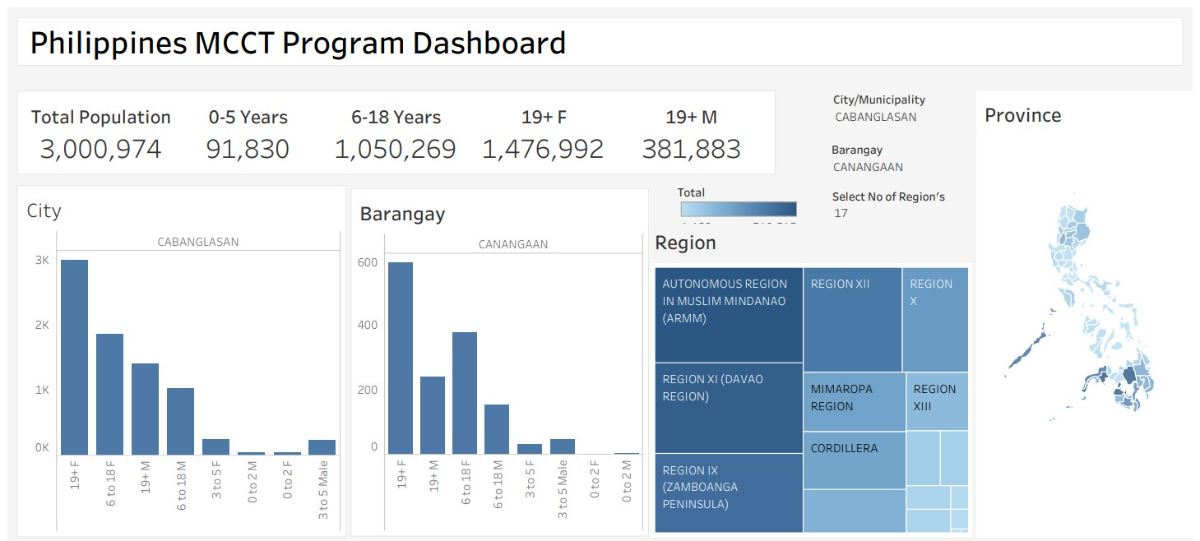

The dashboard page shown, as its layout file describes it:
{"tool":"tableau","page":{"name":"Dashboard 1","canvas":[1000,1000],"units":"permille","ordinal":0},"visuals":[{"type":"text","box":[0,0,1000,97.2]},{"type":"worksheet","title":"#","mark":"Automatic","box":[0,97.2,1000,127.2]},{"type":"worksheet","title":"City","mark":"Automatic","cols":["City/Municipality"],"box":[0,224.4,218.2,775.6]},{"type":"worksheet","title":"Barangay","mark":"Automatic","cols":["Barangay"],"box":[218.2,224.4,200.7,775.6]},{"type":"filter","title":"City","param":"[federated.03cqc9n1j44zlm0ztbdk000a0tvl].[none:City/Municipality:nk]","box":[508.1,224.5,104.7,80.2]},{"type":"filter","title":"Barangay","param":"[federated.03cqc9n1j44zlm0ztbdk000a0tvl].[none:Barangay:nk]","box":[654.6,224.5,104.7,80.2]},{"type":"legend","title":"Region","param":"[federated.03cqc9n1j44zlm0ztbdk000a0tvl].[sum:Total:qk]","box":[508.1,320.6,104.7,80.2]},{"type":"parameter","param":"[Parameters].[Parameter 1]","box":[654.6,320.6,104.7,80.2]},{"type":"worksheet","title":"Region","mark":"Automatic","box":[418.3,402.8,391.5,589.2]}]}

Visuals, with their boxes on the dashboard's canvas, which has no fixed pixel size, in thousandths of its width and height (x1, y1, x2, y2). These are canvas units, not pixel positions in the 1200x541 screenshot, which may show the page scaled, cropped or inside an application window:
text: box(0, 0, 1000, 97)
"#" worksheet: box(0, 97, 1000, 224)
"City" worksheet: box(0, 224, 218, 1000)
"Barangay" worksheet: box(218, 224, 419, 1000)
"City" filter: box(508, 224, 613, 305)
"Barangay" filter: box(655, 224, 759, 305)
"Region" legend: box(508, 321, 613, 401)
parameter: box(655, 321, 759, 401)
"Region" worksheet: box(418, 403, 810, 992)
